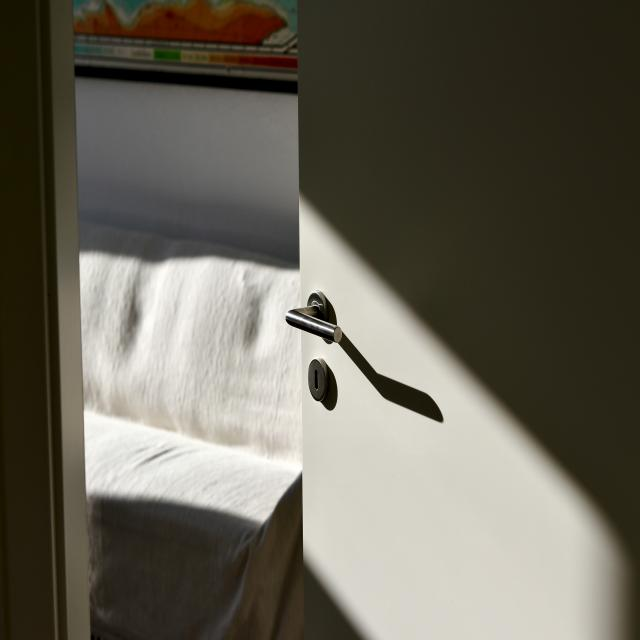door-handle: (285, 291, 342, 343)
